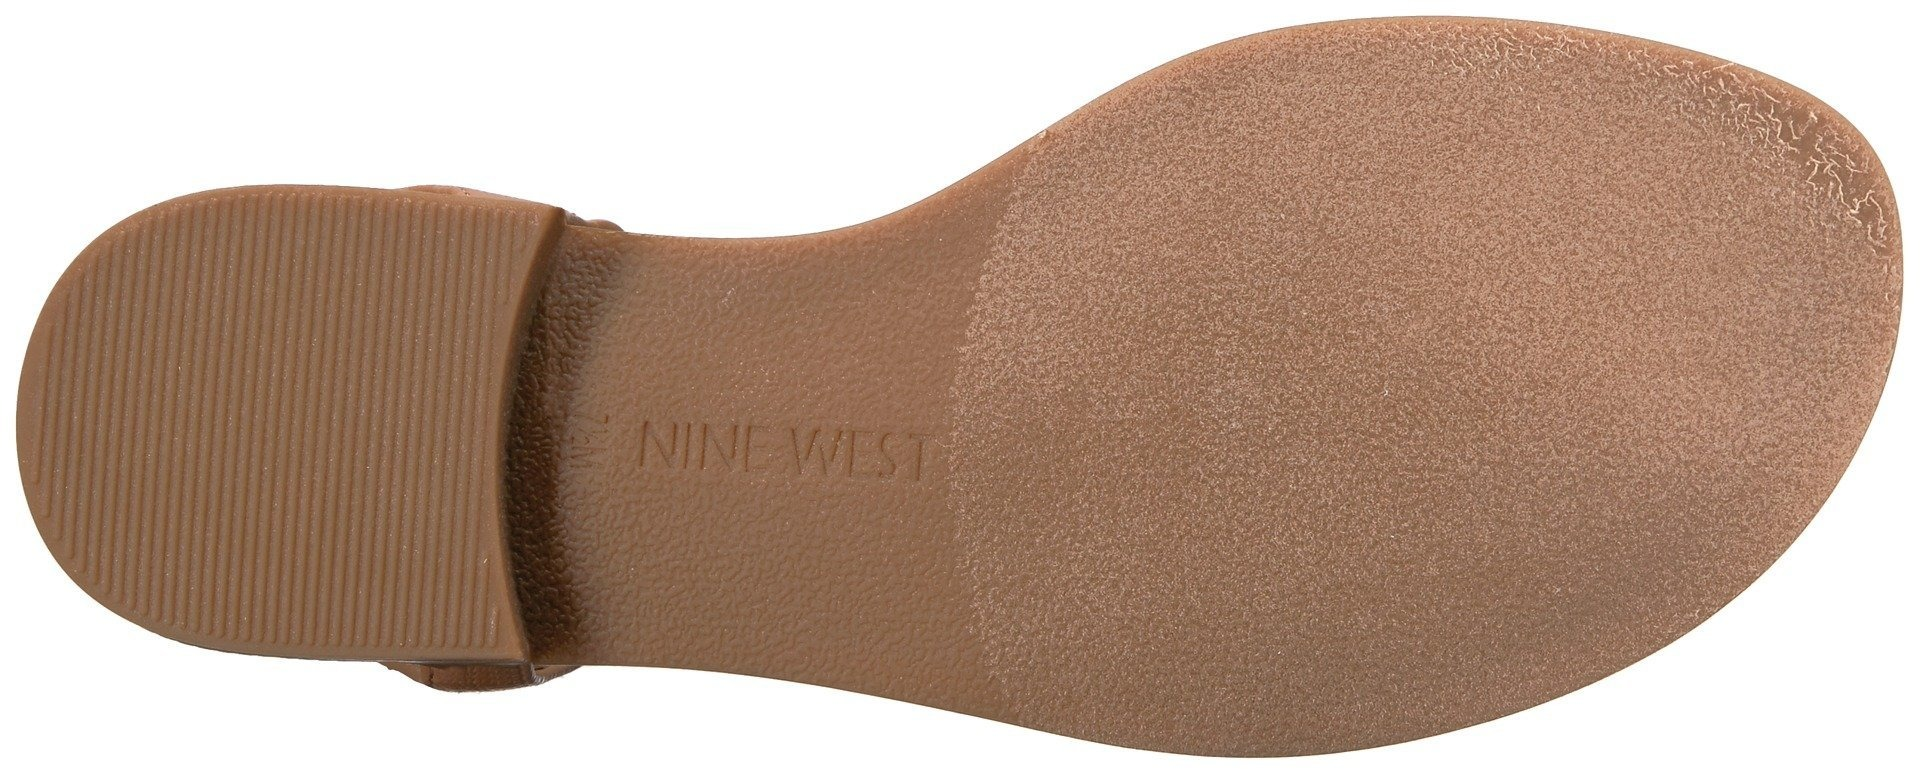other: (1008, 132, 1593, 686), (116, 241, 479, 599), (1588, 280, 1807, 492), (725, 480, 928, 693), (1592, 89, 1790, 285), (751, 244, 943, 422), (31, 336, 159, 460)
text: (620, 302, 951, 602)
